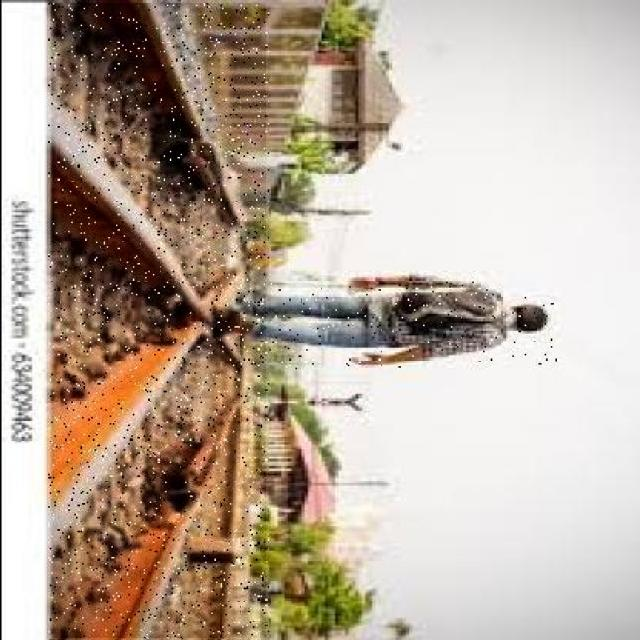rail: (48, 5, 267, 639)
